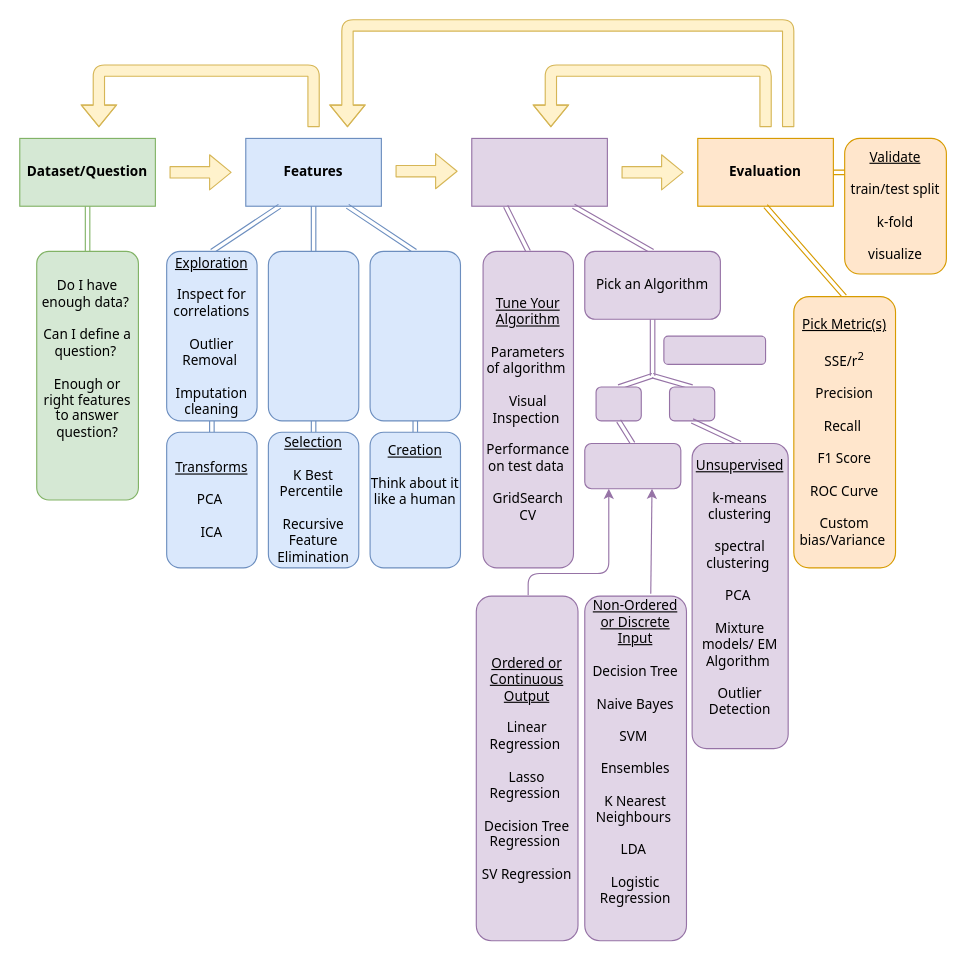
Some shapes in this 966 by 961 pixel diagram are drawn without their labels. Each missing label, with the centre of its shape:
Algorithms: (x=539, y=171)
Labeled Data?: (x=714, y=349)
No: (x=691, y=403)
Representation Text vectorization Discretization: (x=414, y=335)
Scaling Mean subtraction Min/Max Scaler Standard Scaler: (x=313, y=335)
Supervised: (x=632, y=465)
Yes: (x=618, y=403)
